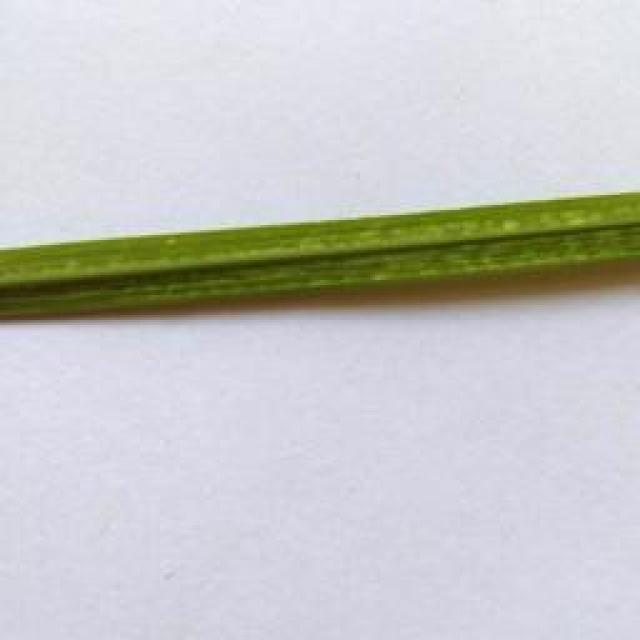Healthy-Plant: (0, 189, 640, 328)
